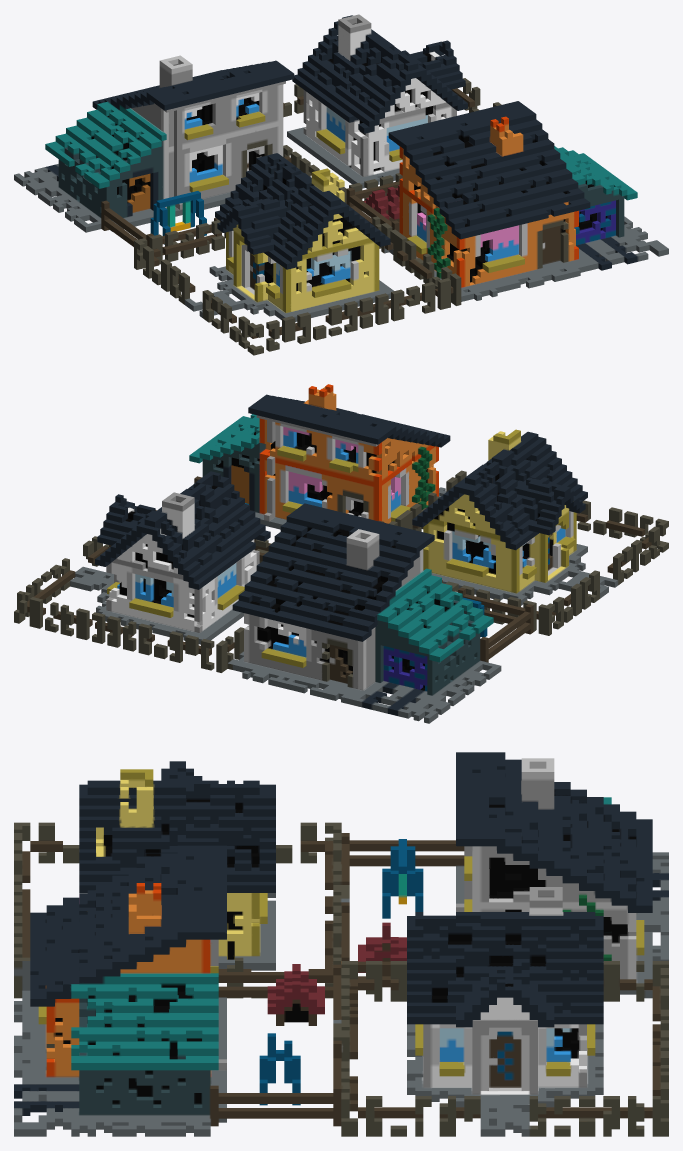
File: building_small_4_damaged.glb
The picture shows the model from 3 angles, top to bottom: view 1: azimuth 30°, elevation 25°; view 2: azimuth 150°, elevation 25°; view 3: azimuth 270°, elevation 25°; orthographic projection. The views are drawn at different scales.
Visible parts, largest first — view 1: building_small_4_damaged; view 2: building_small_4_damaged; view 3: building_small_4_damaged.
Part boxes in pixels (<box>): building_small_4_damaged: <box>14,14,668,355</box>; building_small_4_damaged: <box>14,384,668,723</box>; building_small_4_damaged: <box>14,752,668,1136</box>.
Size of the model in its own units: 8 by 2.3 by 8.
Materials: 1 (1 with a texture image).
